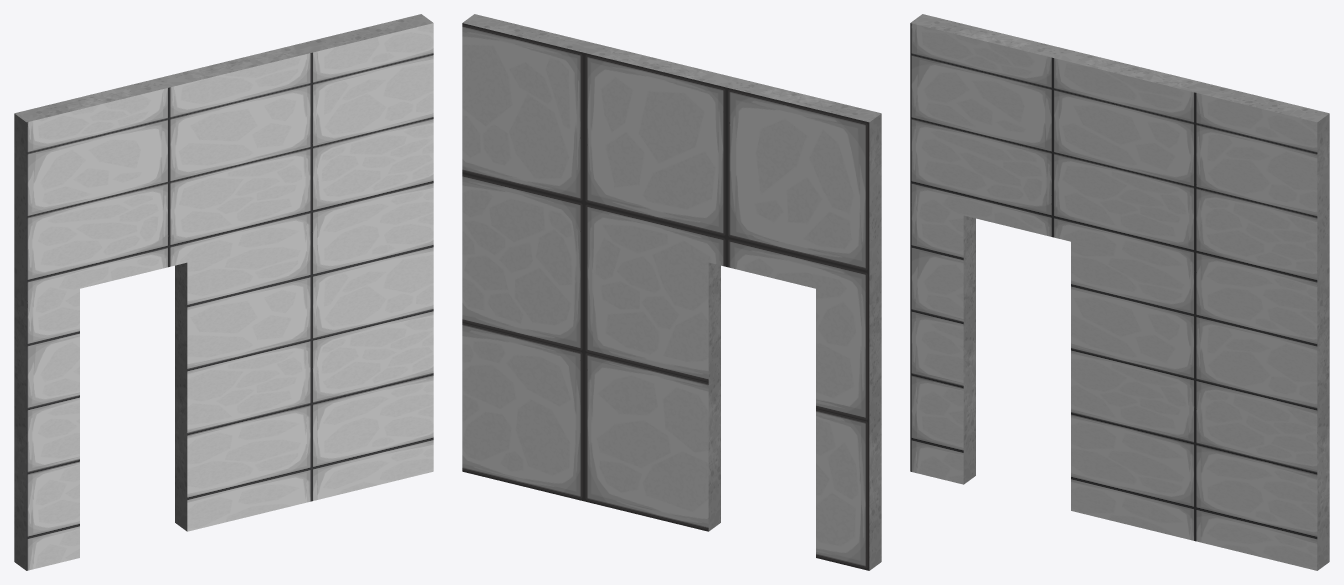
File: SM_Inner_Wall_Door_B.fbx
3 views of the same model, side by side, from view 1: azimuth 30°, elevation 25°; view 2: azimuth 150°, elevation 25°; view 3: azimuth 330°, elevation 25° (orthographic).
Parts seen in each view (by area): view 1: SM_Inner_Wall_Door_B; view 2: SM_Inner_Wall_Door_B; view 3: SM_Inner_Wall_Door_B.
Boxes of the visible parts, x1,y1,x2,y2 form: SM_Inner_Wall_Door_B: (14, 14, 433, 570); SM_Inner_Wall_Door_B: (462, 14, 881, 570); SM_Inner_Wall_Door_B: (910, 14, 1329, 570).
Bounding box in the file's own units: 380 × 400 × 20.
